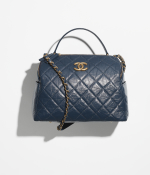channel: (33, 43, 141, 133), (47, 57, 66, 88), (69, 61, 93, 71)
